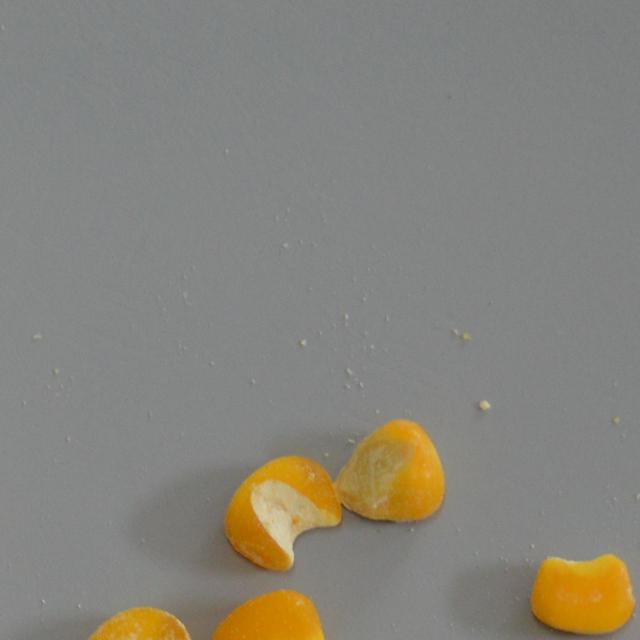dañado: (218, 448, 345, 574), (72, 601, 204, 640)
no_canjicado: (208, 587, 328, 640)
pelicula: (526, 550, 638, 638)
punto_negro: (331, 414, 446, 527)
